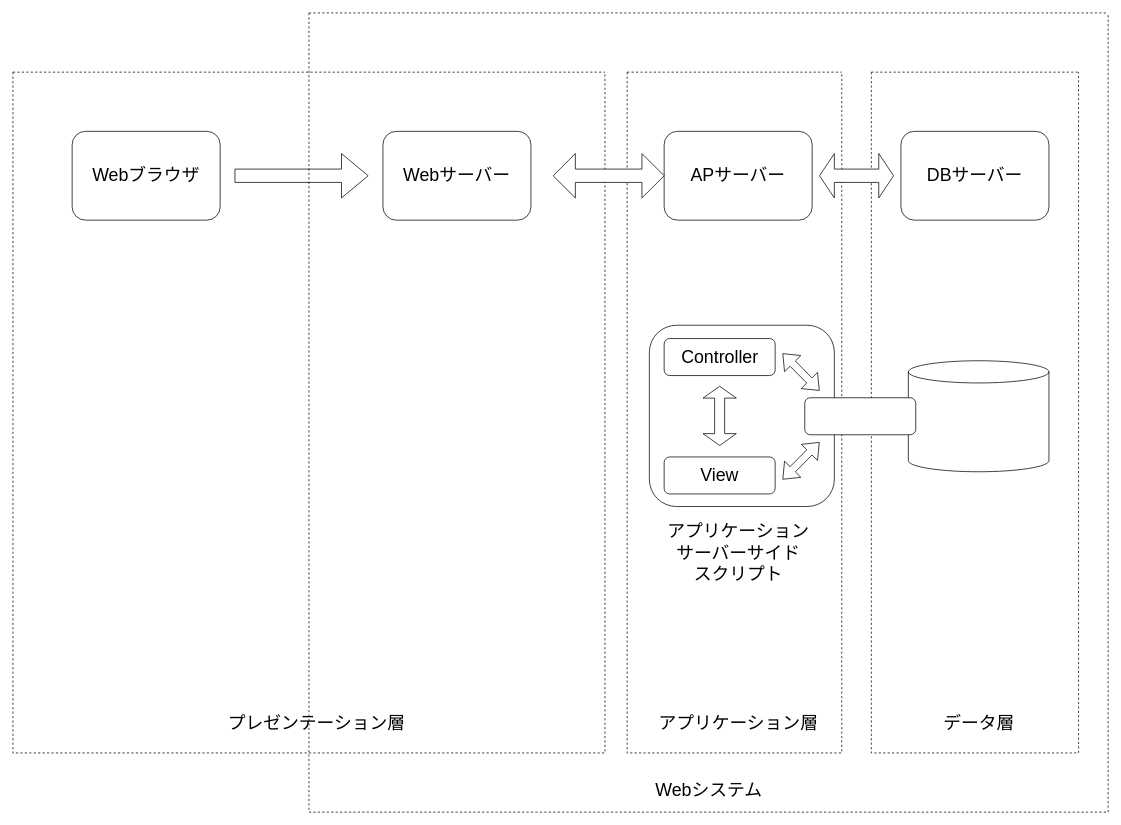
The diagram is 1121 pixels wide and 825 high, and some of its shapes have lost their labels. The shapes that lost their labels are listed below. From the top down, each one's box as (x1, y1, x2, y2) in pixels, then its label:
(804, 397, 916, 435): Model
(908, 360, 1049, 472): データベース
